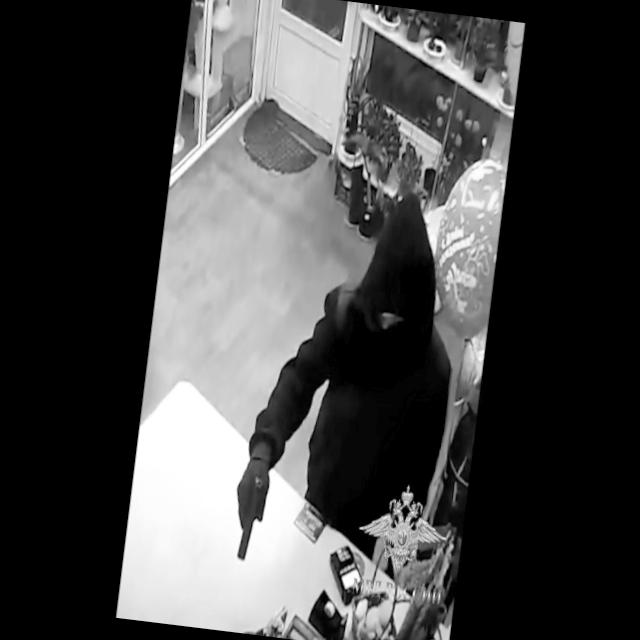gun: (226, 446, 278, 569)
person with a gun: (227, 178, 476, 588)
